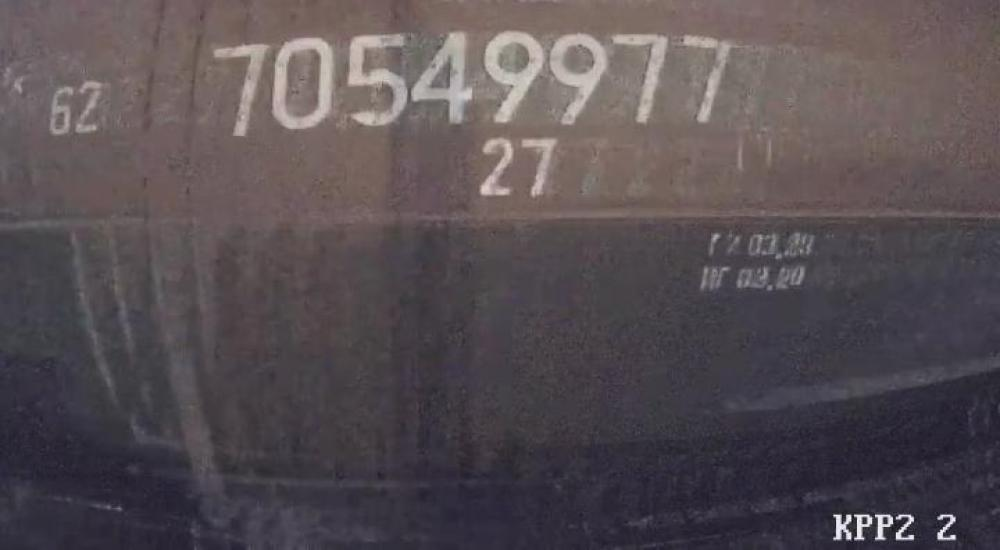Wagon-number: (211, 31, 736, 140)
